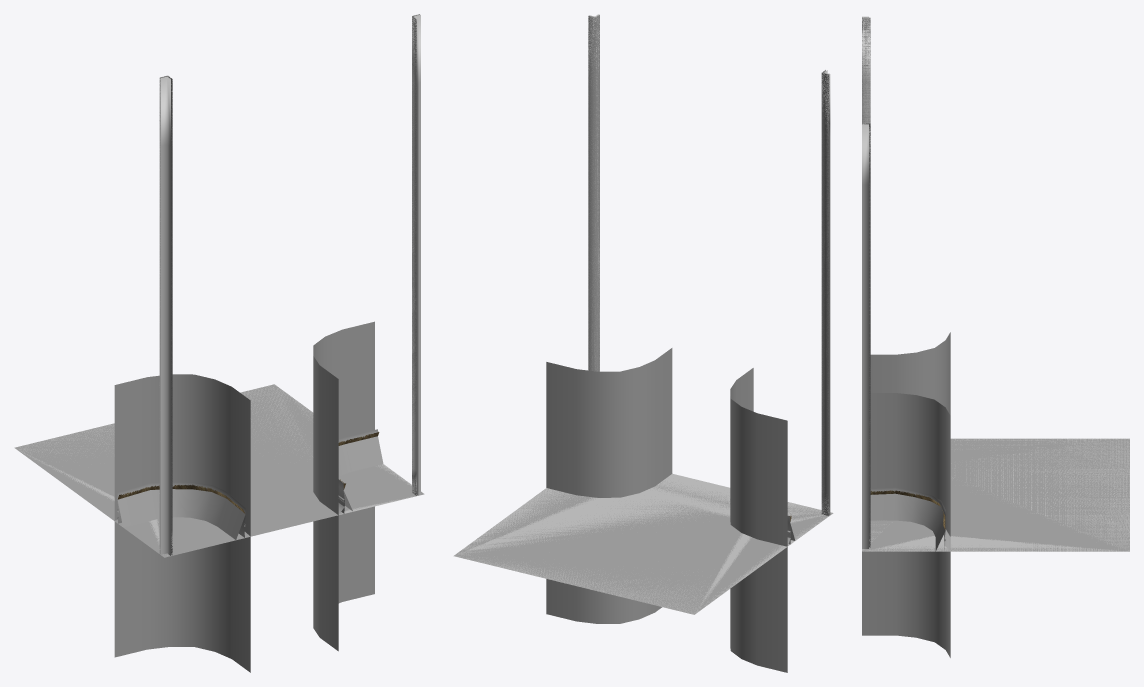
The model's file is roomgateA1.fbx.
3 renders of one model, left to right at view 1: azimuth 30°, elevation 25°; view 2: azimuth 150°, elevation 25°; view 3: azimuth 270°, elevation 25°, orthographic. The views are drawn at different scales.
Parts seen in each view (by area): view 1: col_w, col_o, mdl_LOD0, mdl2_LOD0; view 2: col_w, col_o, mdl_LOD0, mdl2_LOD0; view 3: col_o, col_w, mdl_LOD0, mdl2_LOD0.
Boxes of the visible parts, box(x1,y1,x2,y2) form: col_w: box(114, 321, 374, 672); col_o: box(14, 14, 424, 557); mdl_LOD0: box(15, 83, 423, 555); mdl2_LOD0: box(118, 14, 420, 513); col_w: box(546, 348, 787, 672); col_o: box(454, 14, 833, 614); mdl_LOD0: box(453, 79, 831, 614); mdl2_LOD0: box(588, 14, 830, 521); col_o: box(862, 17, 1129, 551); col_w: box(862, 332, 950, 657); mdl_LOD0: box(862, 78, 1129, 551); mdl2_LOD0: box(862, 16, 945, 529).
Size of what is drawn, in the model's own units: 1600 by 3600 by 1600.
